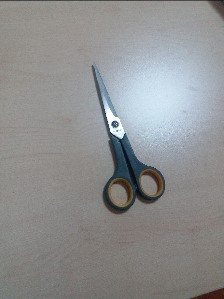scissors: (92, 63, 165, 211)
